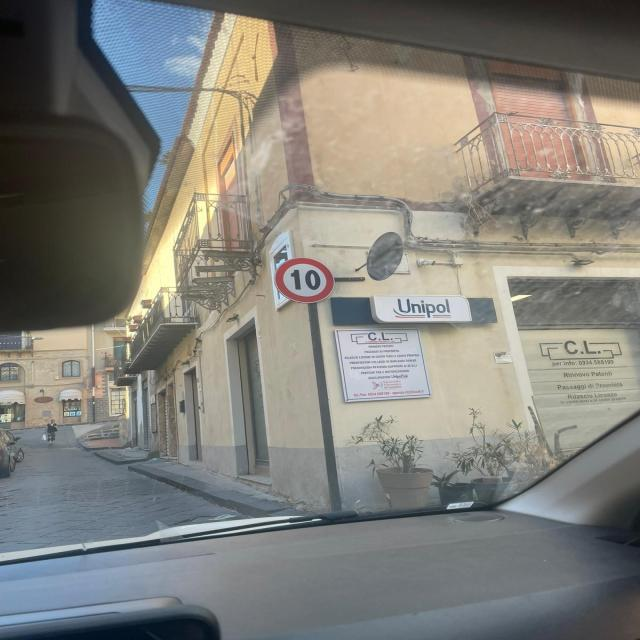forb_speed_over_10: (273, 256, 335, 304)
